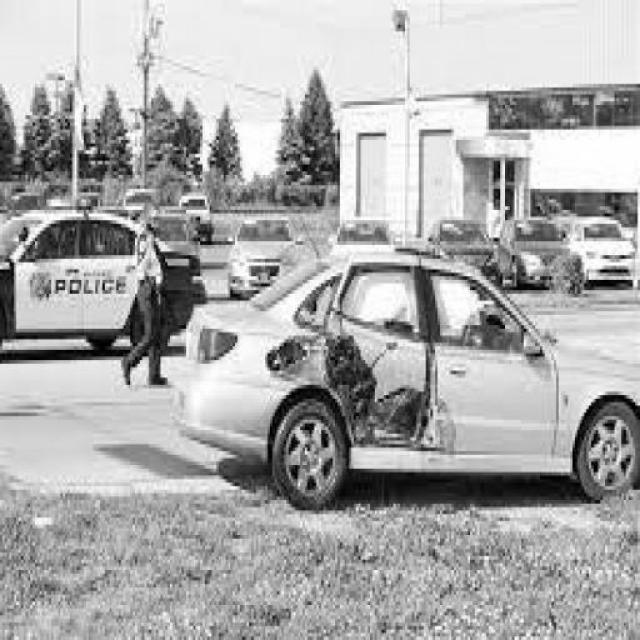crush: (267, 286, 457, 468)
